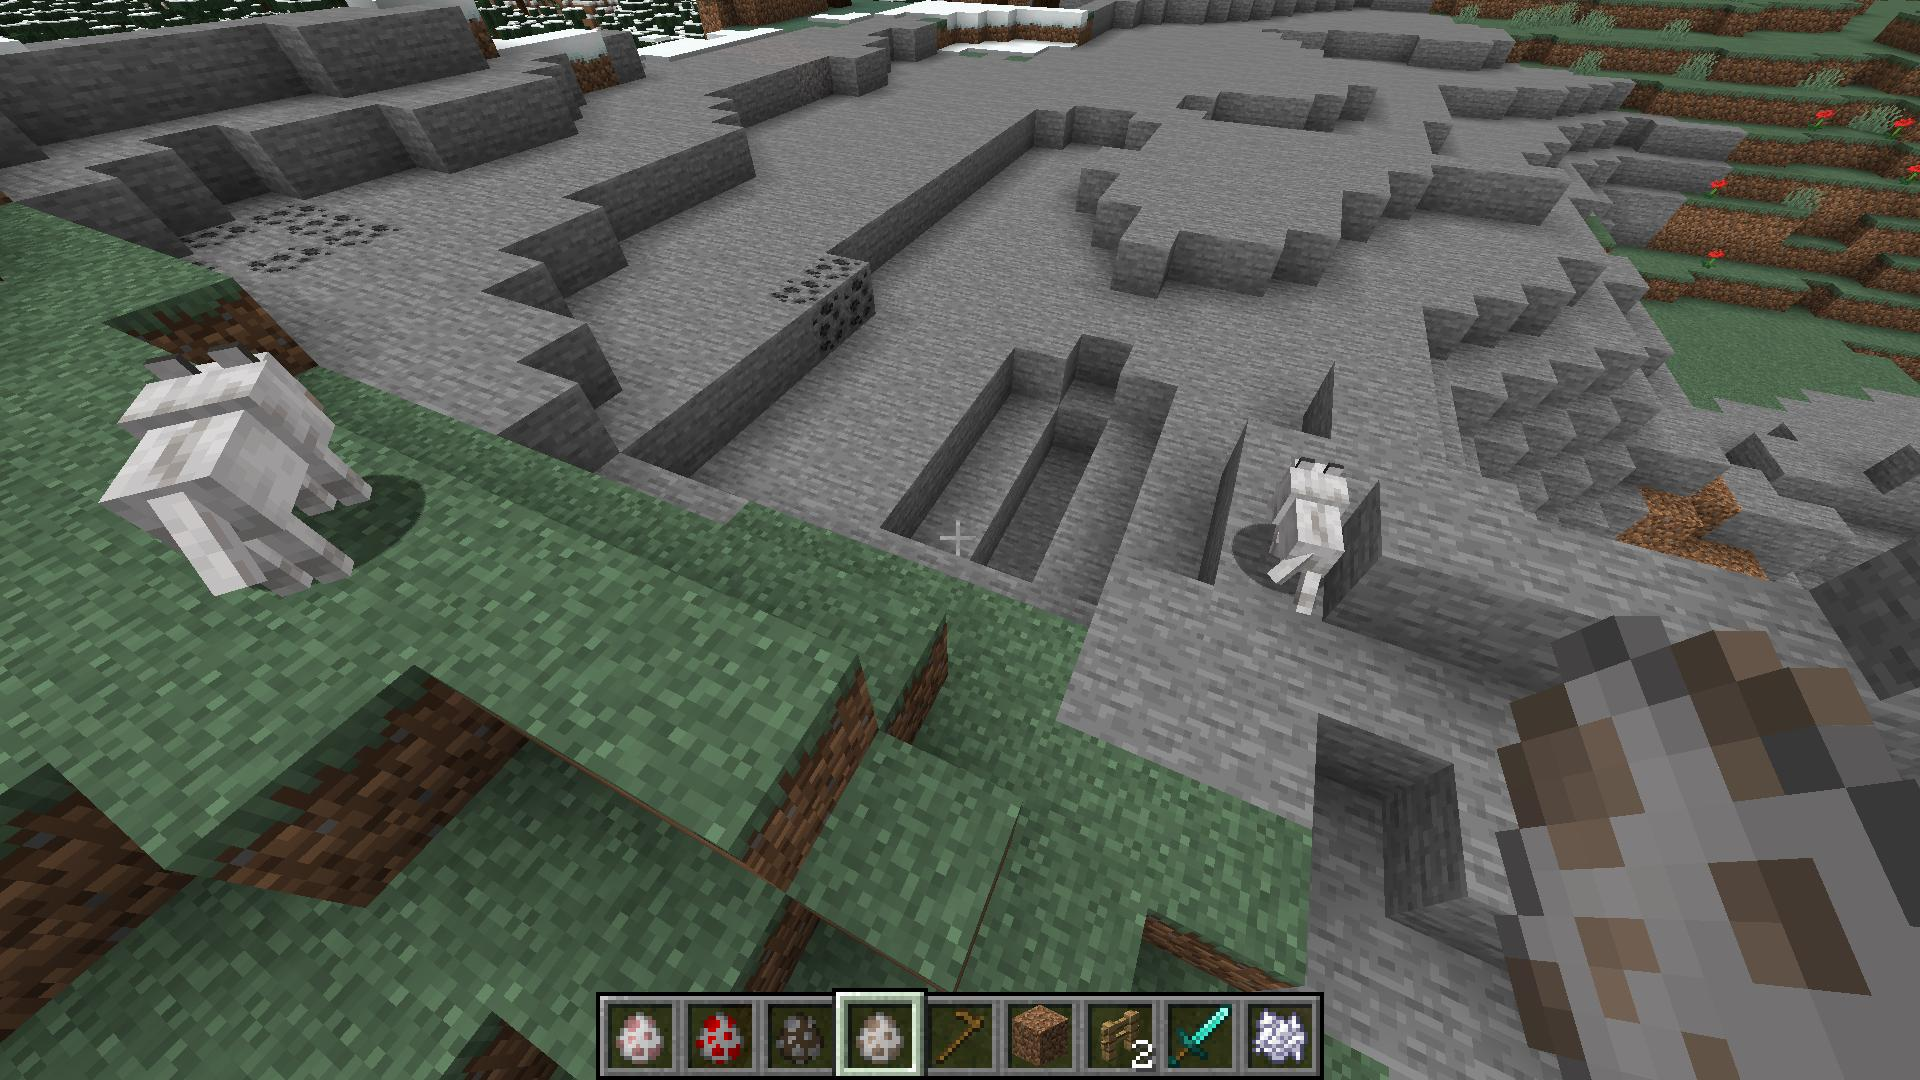wolf: (92, 343, 384, 608), (1263, 454, 1358, 626)
